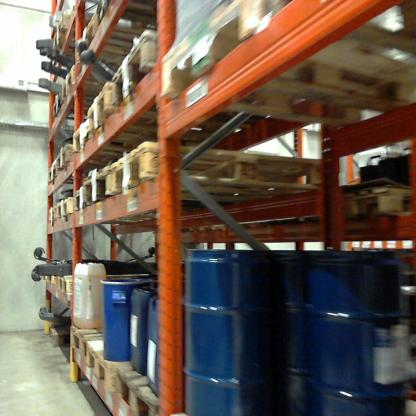pallet: (154, 2, 413, 135), (111, 137, 333, 209), (85, 78, 242, 150), (82, 163, 214, 226), (79, 1, 213, 60), (69, 114, 216, 158), (104, 28, 175, 117), (114, 369, 210, 412), (60, 65, 163, 104), (322, 180, 412, 223), (55, 272, 162, 303), (86, 337, 133, 396), (47, 11, 104, 56), (69, 323, 120, 370), (55, 143, 107, 182), (50, 95, 102, 128), (45, 159, 92, 193), (45, 321, 73, 357), (55, 192, 76, 228), (39, 269, 62, 293), (75, 184, 88, 221), (41, 205, 58, 226)
